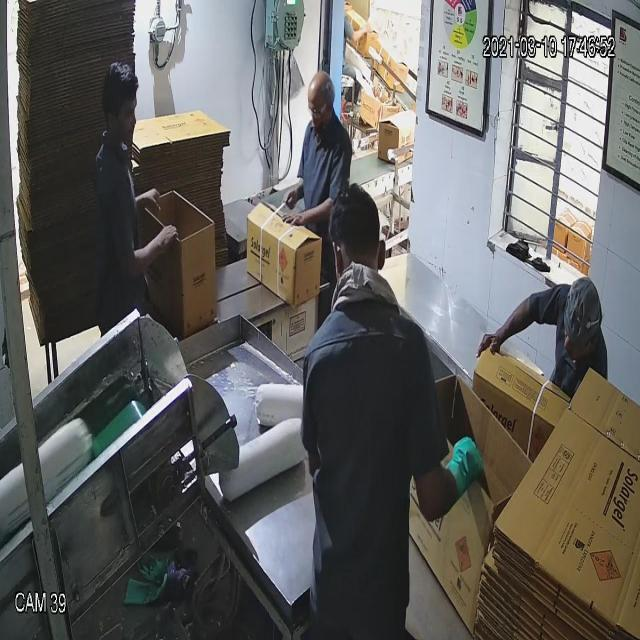gloves: (436, 420, 490, 508)
no-gloves: (467, 282, 542, 374), (117, 220, 181, 274), (282, 196, 338, 244), (280, 174, 316, 235)
